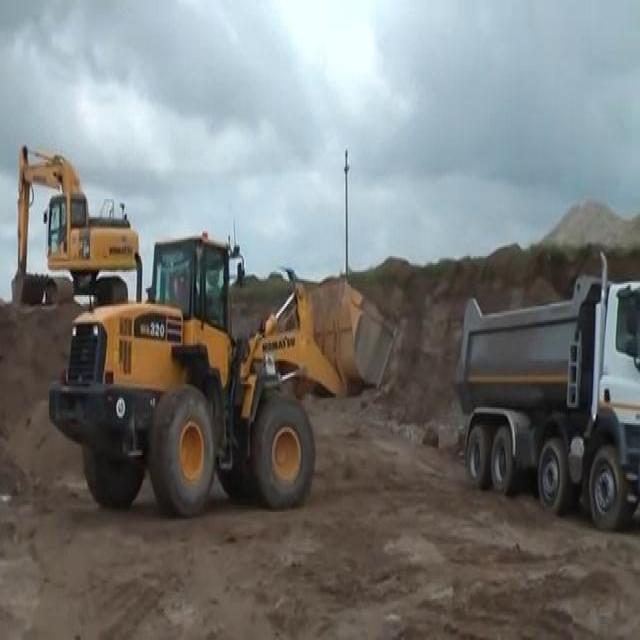Dump Truck: (452, 249, 639, 533)
Excavator: (10, 144, 138, 308)
Loader: (48, 227, 397, 521)
